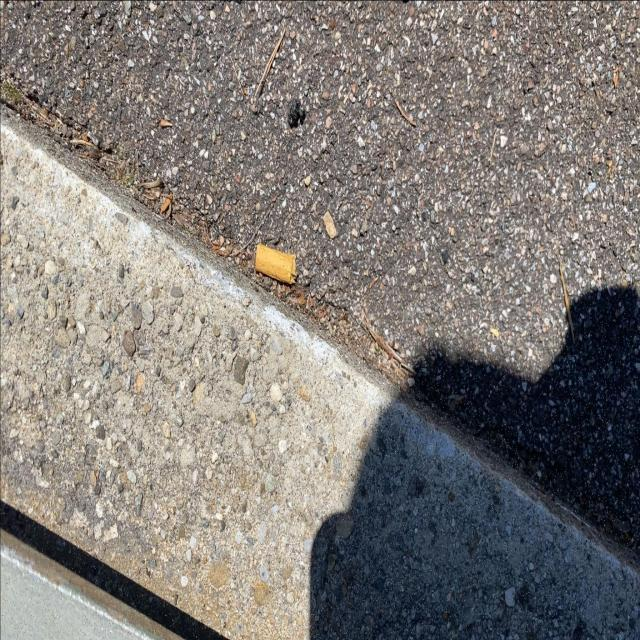other waste: (254, 242, 298, 285)
